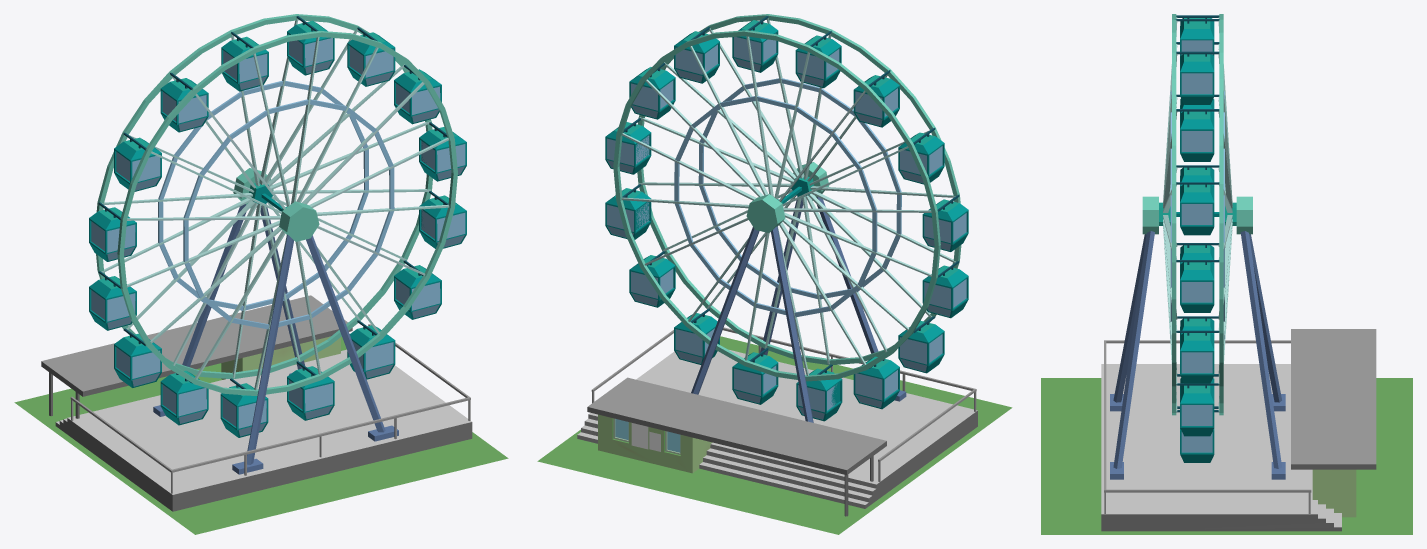
Rendered from building_0_2_2_2.glb.
3 views of the same model, side by side, from view 1: azimuth 30°, elevation 25°; view 2: azimuth 150°, elevation 25°; view 3: azimuth 270°, elevation 25° (orthographic). The views are drawn at different scales.
Parts seen in each view (by area): view 1: building_0_2_2_2; view 2: building_0_2_2_2; view 3: building_0_2_2_2.
Boxes of the visible parts, bbox=[...] form: building_0_2_2_2: bbox=[14, 14, 508, 534]; building_0_2_2_2: bbox=[537, 14, 1012, 534]; building_0_2_2_2: bbox=[1041, 14, 1412, 534].
Size of the model in its own units: 36.88 by 40.47 by 32.
Materials: 1 (1 with a texture image).
